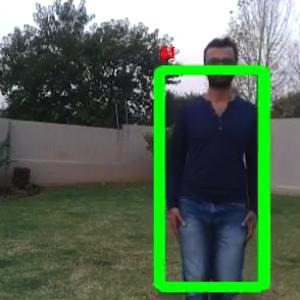follow: (174, 47, 256, 299)
